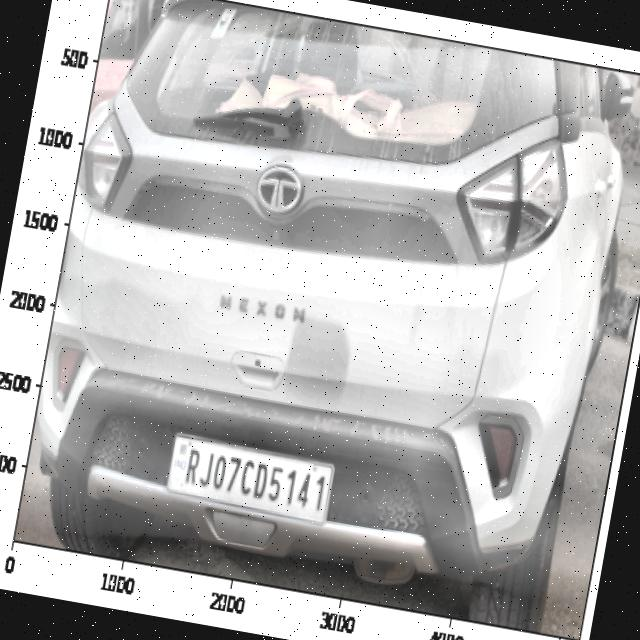license_plate: (176, 438, 334, 528)
